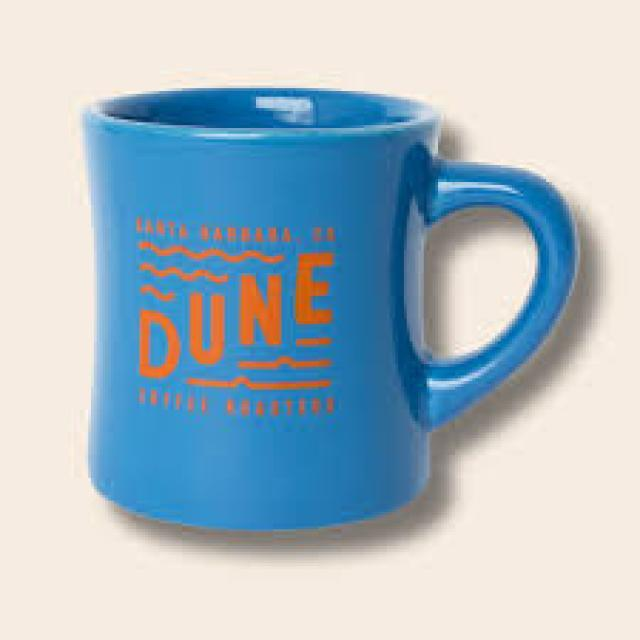taza: (80, 85, 580, 530)
